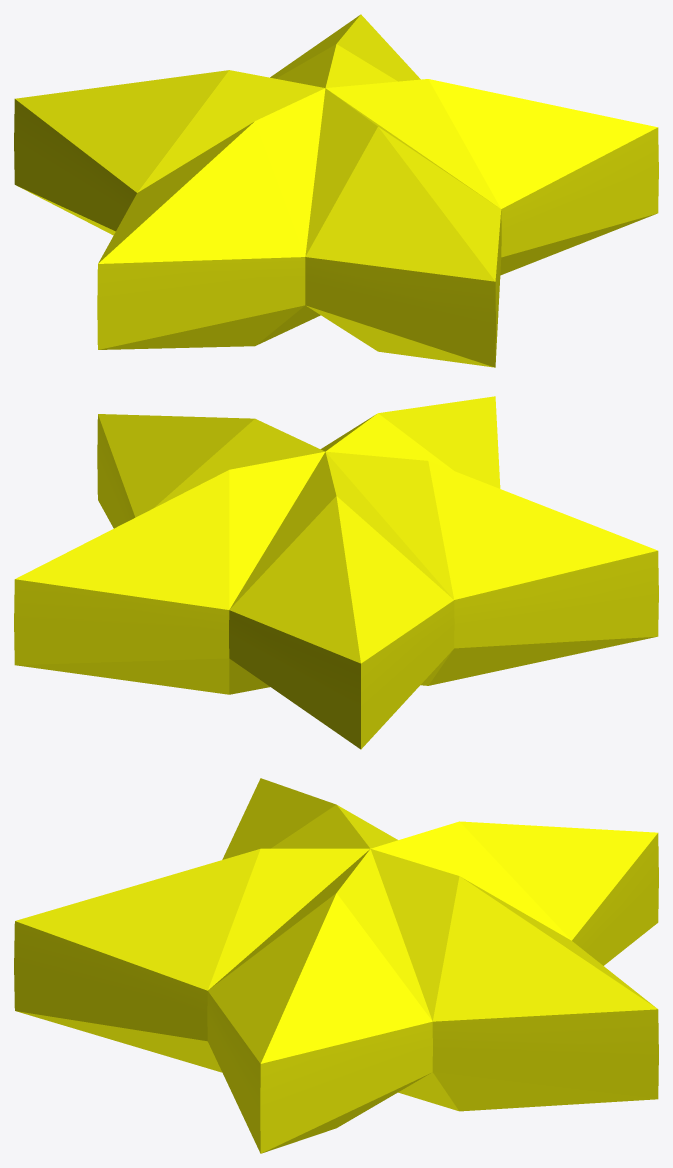
Rendered from Star.glb.
3 renders of one model, top to bottom at view 1: azimuth 30°, elevation 25°; view 2: azimuth 150°, elevation 25°; view 3: azimuth 270°, elevation 25°, orthographic. The views are drawn at different scales.
Visible parts, largest first — view 1: SoftStar; view 2: SoftStar; view 3: SoftStar.
Part boxes in pixels (x1,y1,x2,y2): SoftStar: [14, 14, 658, 367]; SoftStar: [14, 396, 658, 749]; SoftStar: [14, 778, 658, 1153].
Bounding box in the file's own units: 2.35 × 0.8989 × 2.23.
